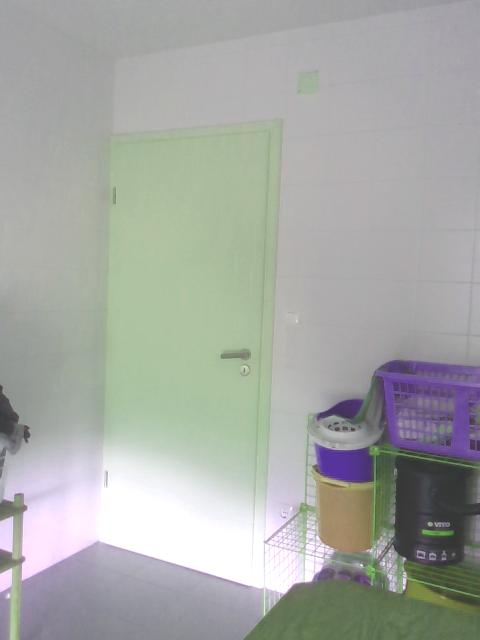closed_door: (96, 121, 282, 602)
